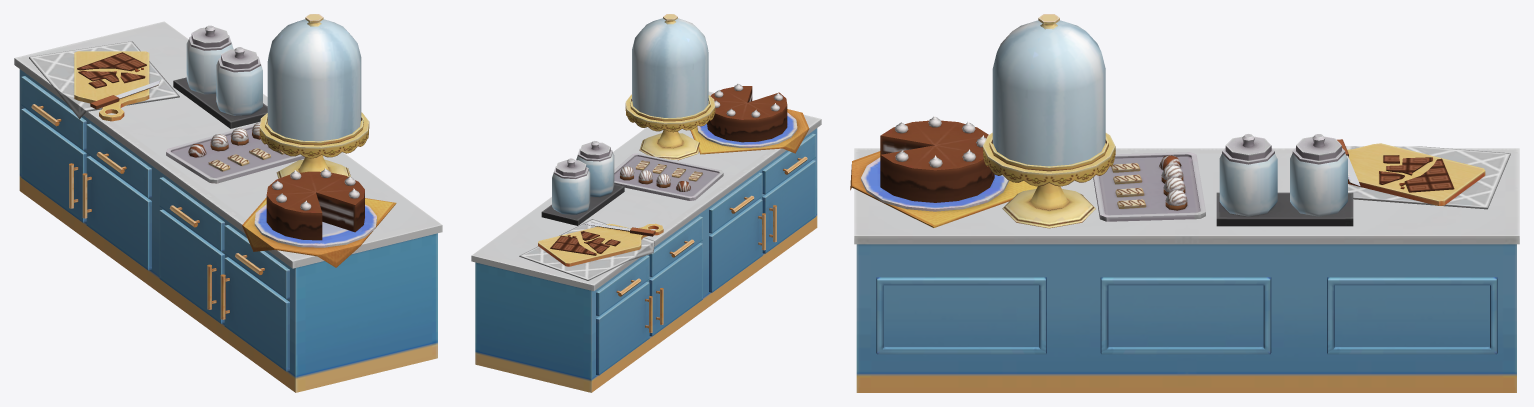
The model's file is my_chocolatecafe_01_p_bar_02.glb.
3 renders of one model, left to right at view 1: azimuth 30°, elevation 25°; view 2: azimuth 150°, elevation 25°; view 3: azimuth 270°, elevation 25°, orthographic. The views are drawn at different scales.
Visible parts, largest first — view 1: my_chocolatecafe_01_p_bar_02; view 2: my_chocolatecafe_01_p_bar_02; view 3: my_chocolatecafe_01_p_bar_02.
Boxes of the visible parts, left/top/right/bottom form: my_chocolatecafe_01_p_bar_02: left=14, top=14, right=442, bottom=392; my_chocolatecafe_01_p_bar_02: left=471, top=14, right=821, bottom=392; my_chocolatecafe_01_p_bar_02: left=850, top=14, right=1519, bottom=392.
Size of the model in its own units: 0.00567 by 0.00992 by 0.0172.
2 materials, 2 textured.
